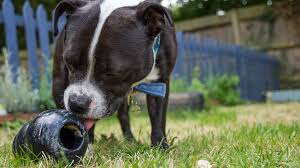can: (10, 113, 93, 164)
